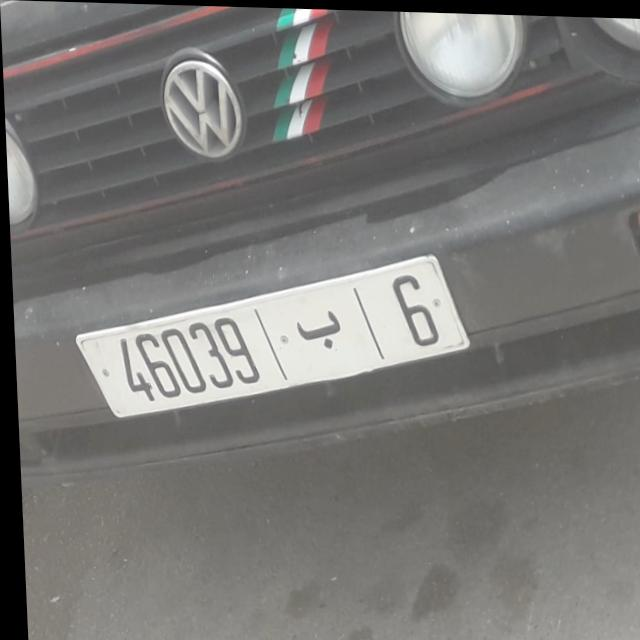License-Plate: (73, 253, 466, 417)
